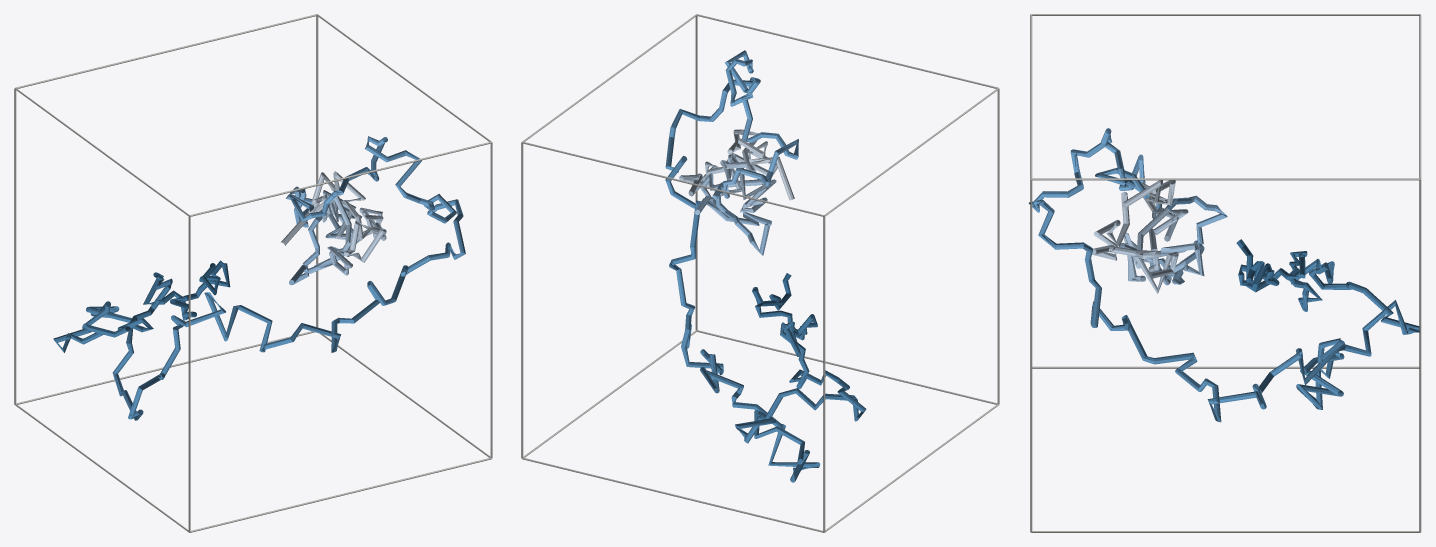
3 views of the same model, side by side, from view 1: azimuth 30°, elevation 25°; view 2: azimuth 150°, elevation 25°; view 3: azimuth 270°, elevation 25° (orthographic). The views are drawn at different scales.
Visible parts, largest first — view 1: geometry_0, geometry_1; view 2: geometry_0, geometry_1; view 3: geometry_0, geometry_1.
Part boxes in pixels (box(x1,y1,x2,y2)): geometry_0: box(53, 136, 465, 420); geometry_1: box(14, 14, 492, 532); geometry_0: box(665, 50, 866, 482); geometry_1: box(521, 14, 999, 532); geometry_0: box(1029, 128, 1419, 422); geometry_1: box(1030, 14, 1421, 532).
Size of the model in its own units: 0.3041 by 0.3037 by 0.3031.
